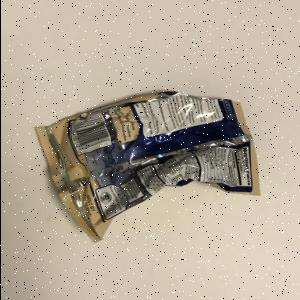Trash: (34, 91, 262, 244)
